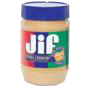grozi_108: (21, 1, 69, 86)
